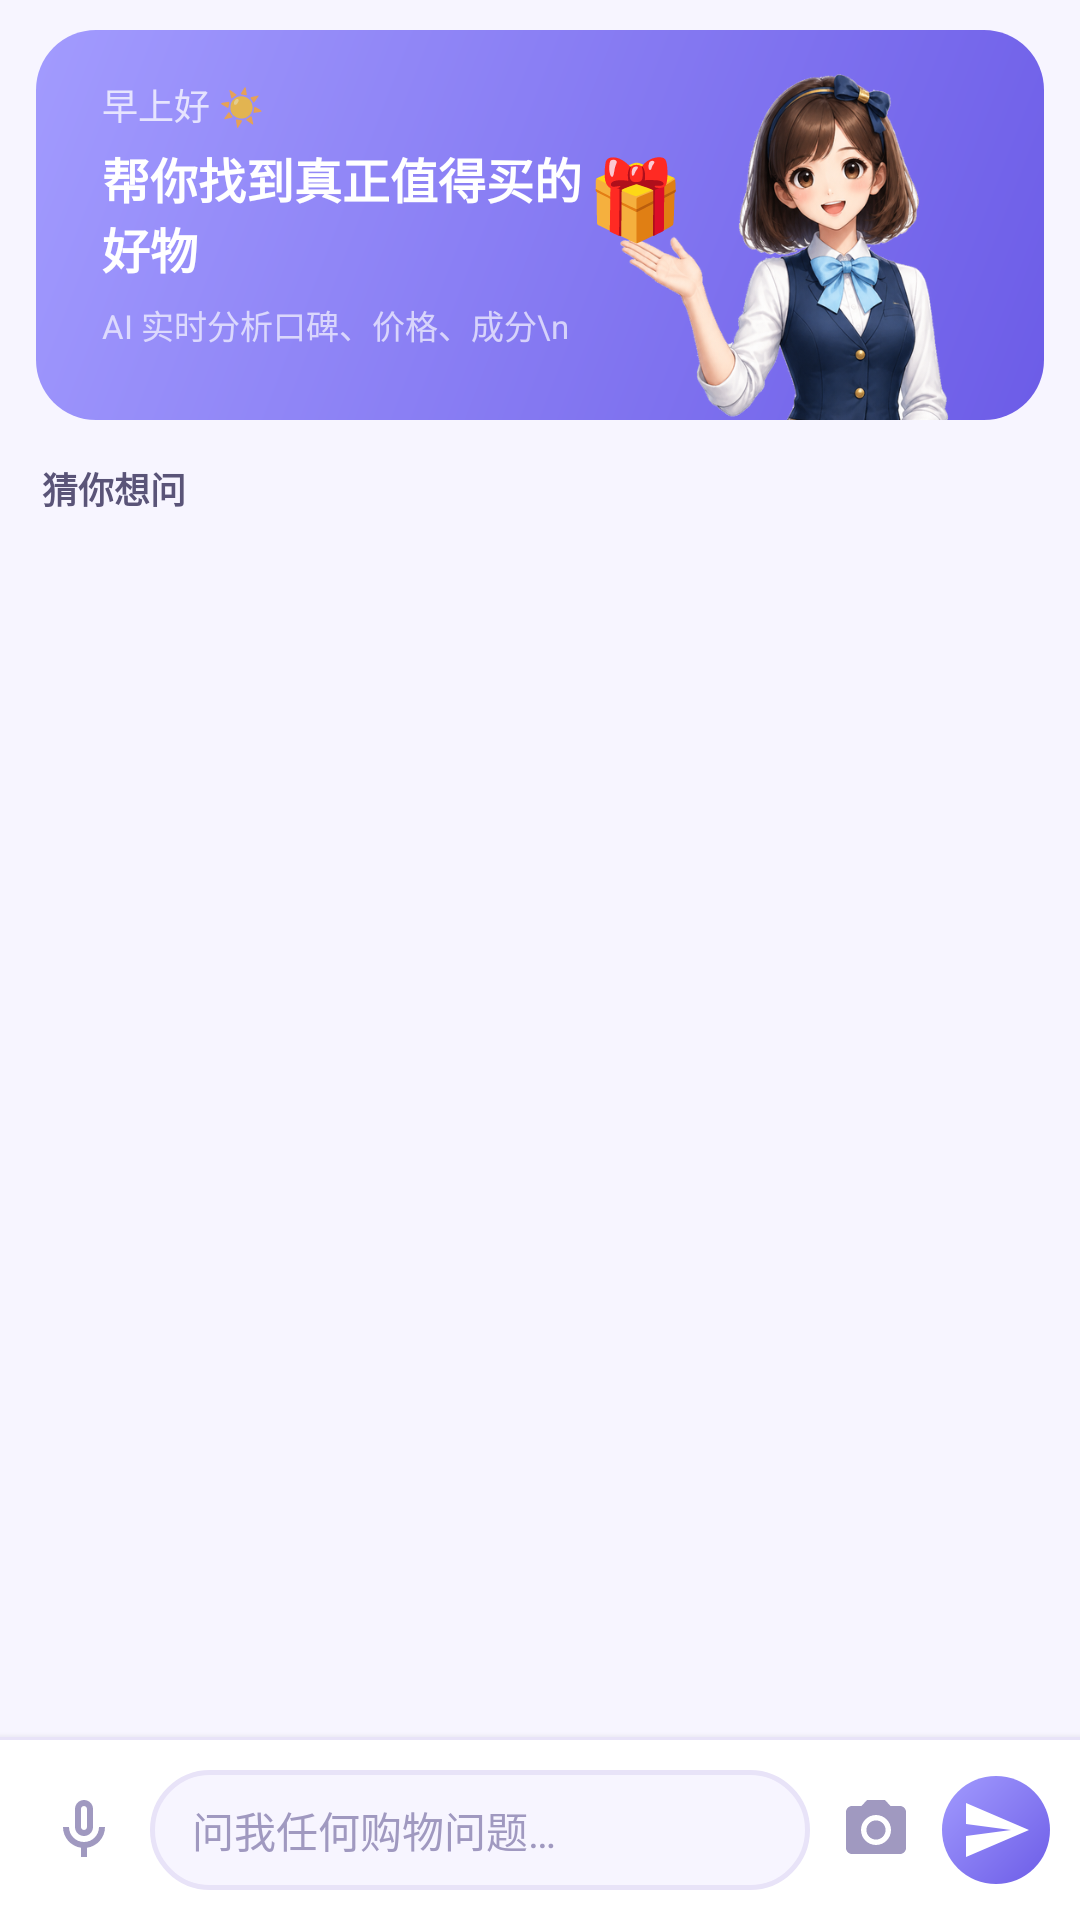

Icons on this 1080 x 1920 Android screen, each with its box as (x1, y1, x2, y2):
发送: (942, 1776, 1050, 1884)
拍照找货: (846, 1800, 906, 1854)
语音: (63, 1800, 105, 1857)
